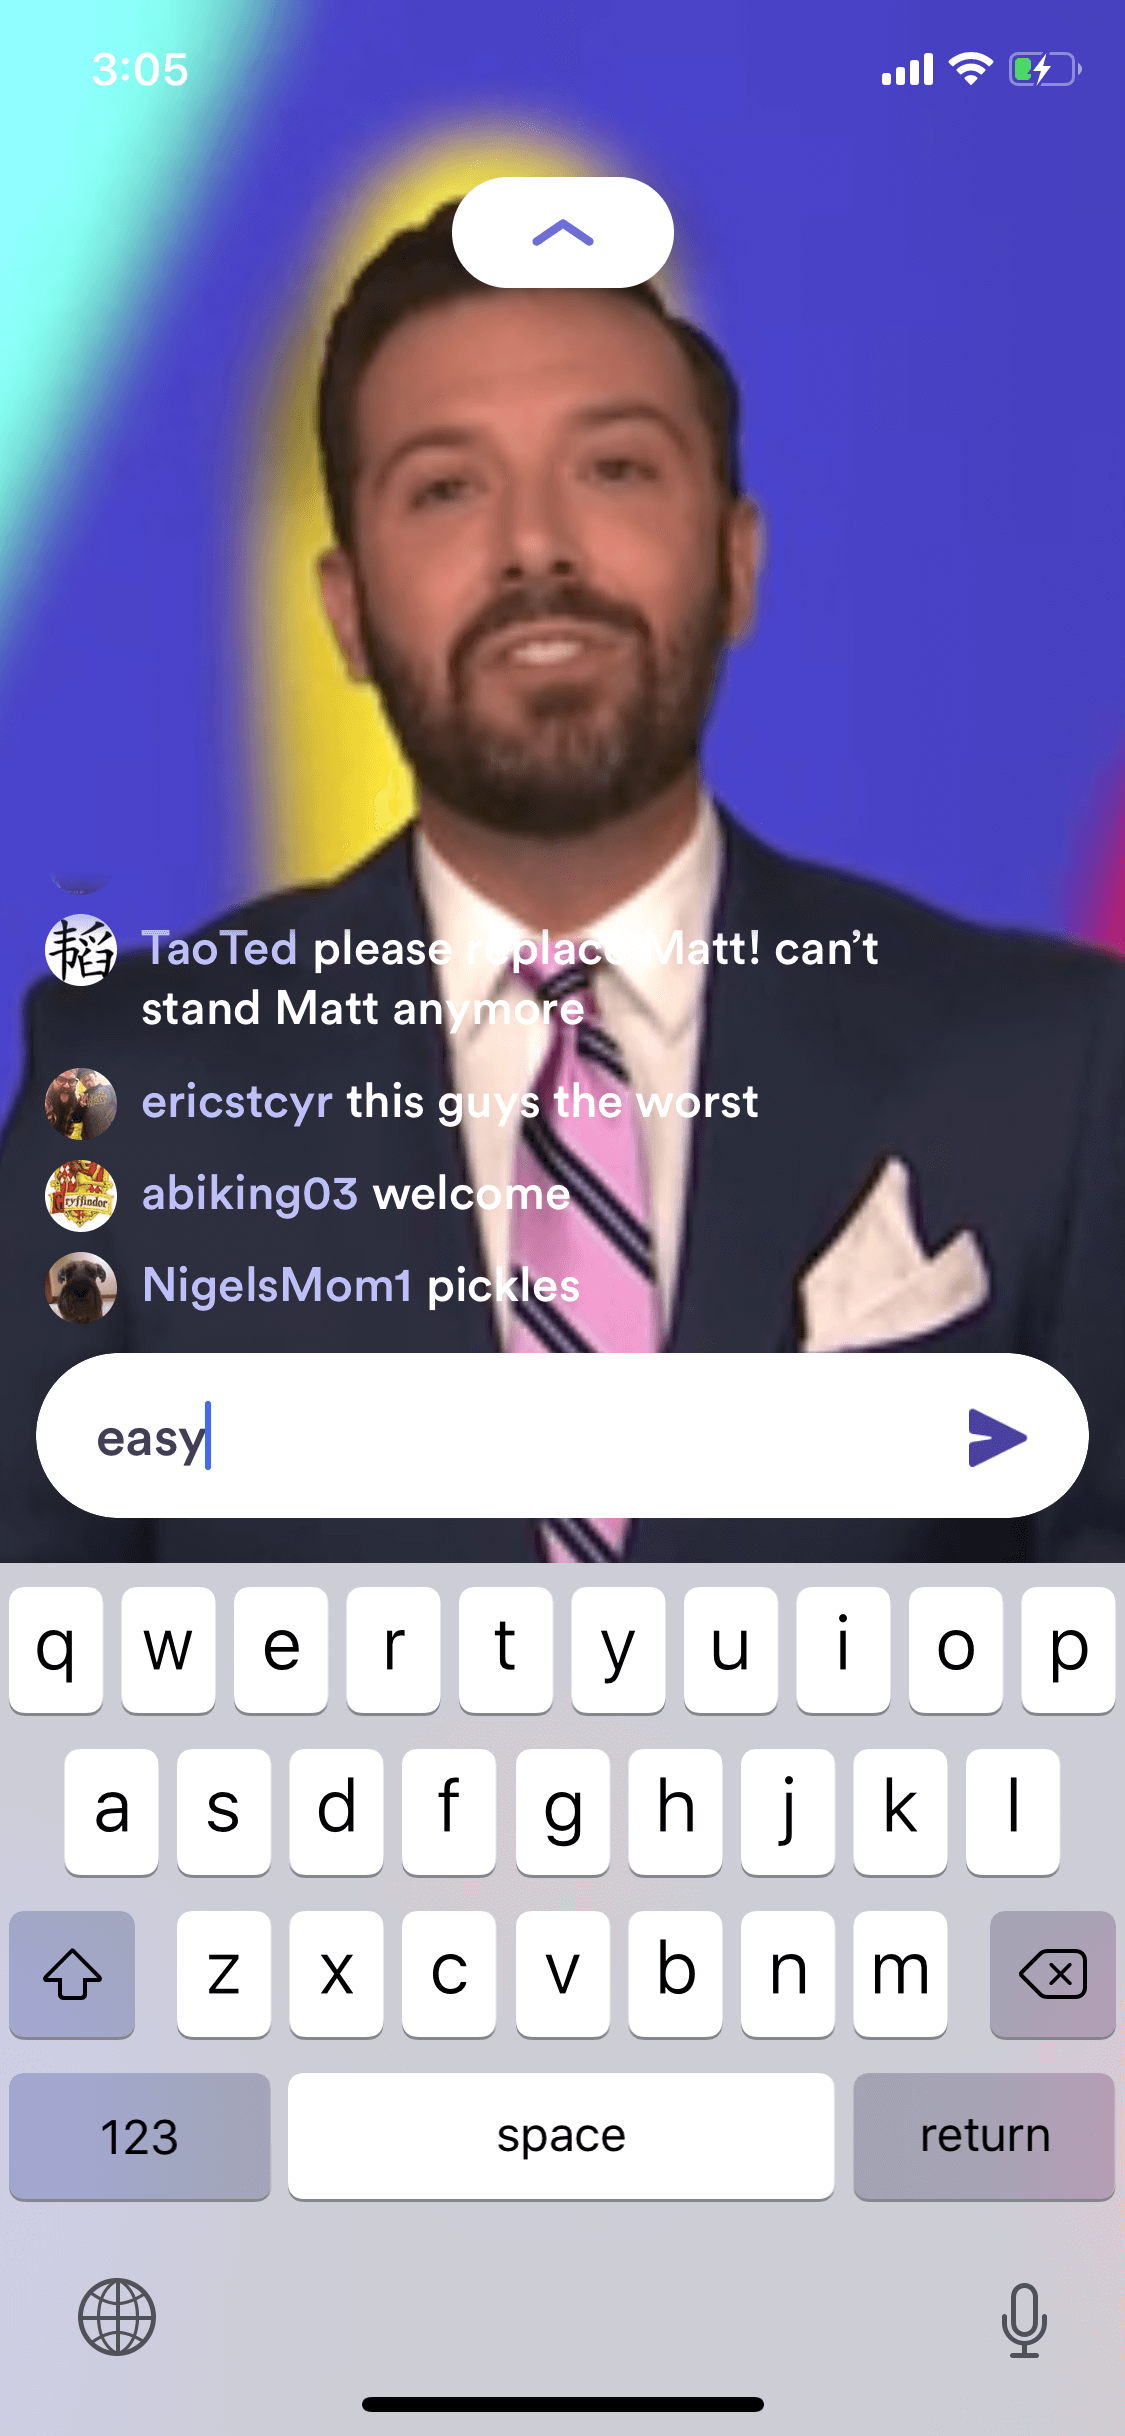FAB (Floating Action Button): (444, 168, 687, 301)
Text Fields: (26, 1342, 1095, 1524)
